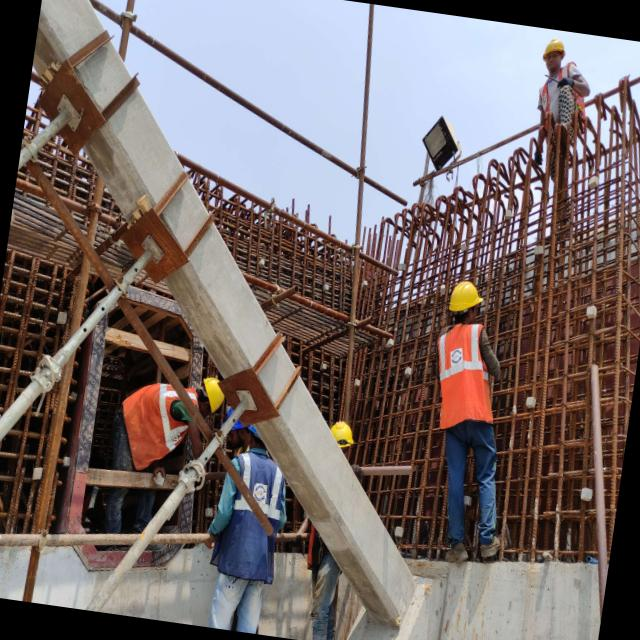cement: (256, 379, 600, 640), (165, 225, 276, 377), (84, 91, 183, 219), (100, 545, 217, 627), (33, 0, 104, 74), (32, 547, 111, 610), (259, 553, 312, 640), (79, 41, 131, 110), (161, 182, 208, 249), (259, 347, 294, 400), (0, 547, 30, 601)
